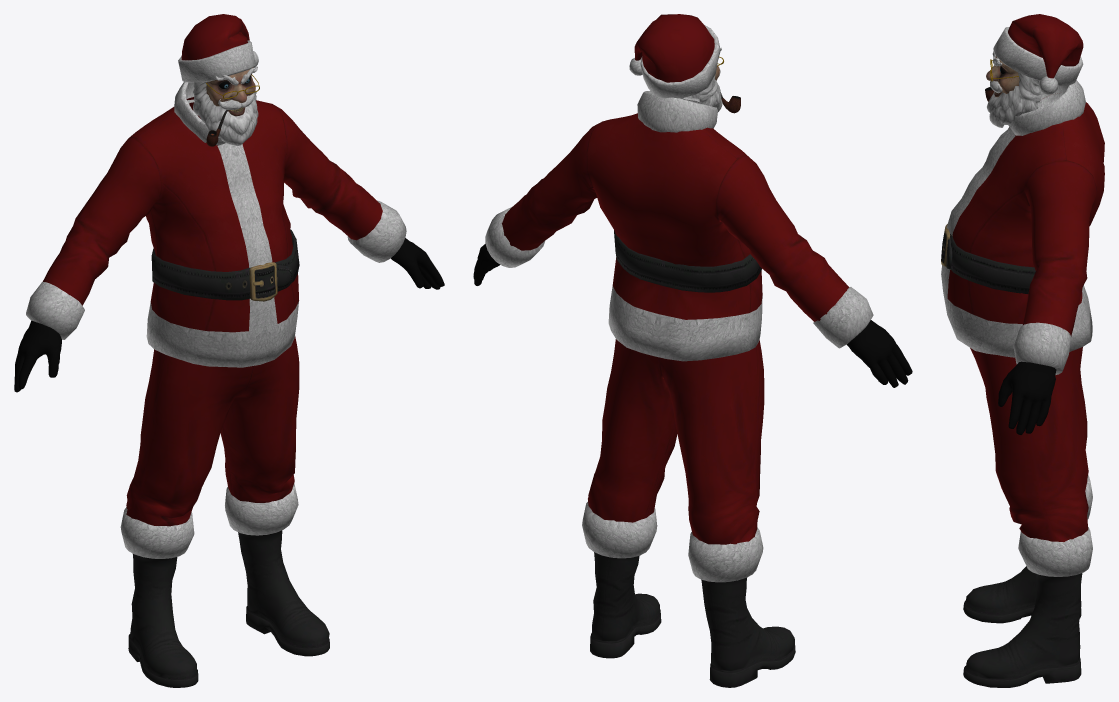
Rendered from SurvivorMale_Chest_Ghillie_Santa_LOD0.glb.
3 renders of one model, left to right at view 1: azimuth 30°, elevation 25°; view 2: azimuth 150°, elevation 25°; view 3: azimuth 270°, elevation 25°, orthographic.
Parts seen in each view (by area): view 1: Hoodie; view 2: Hoodie; view 3: Hoodie.
Part boxes in pixels (left/top/right/bottom): Hoodie: left=14, top=14, right=444, bottom=687; Hoodie: left=473, top=14, right=912, bottom=687; Hoodie: left=941, top=14, right=1104, bottom=687.
Bounding box in the file's own units: 1.34 × 1.88 × 0.443.
Materials: 1 (1 with a texture image).
